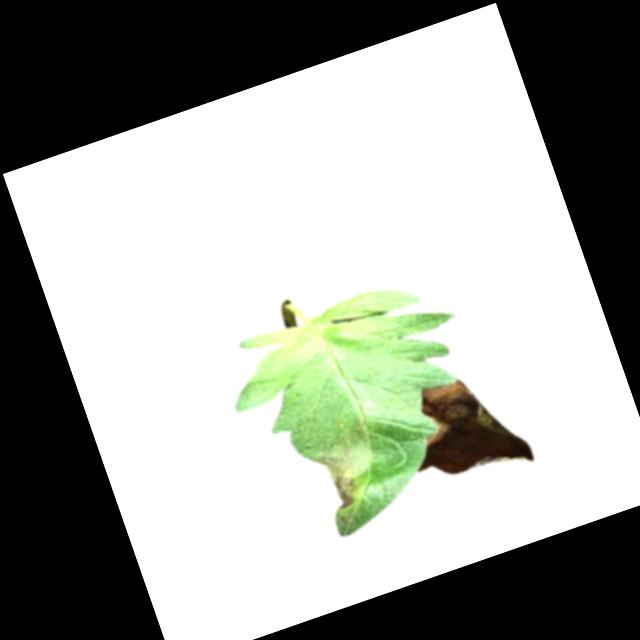Late_blight: (391, 360, 537, 499), (306, 420, 389, 516)
